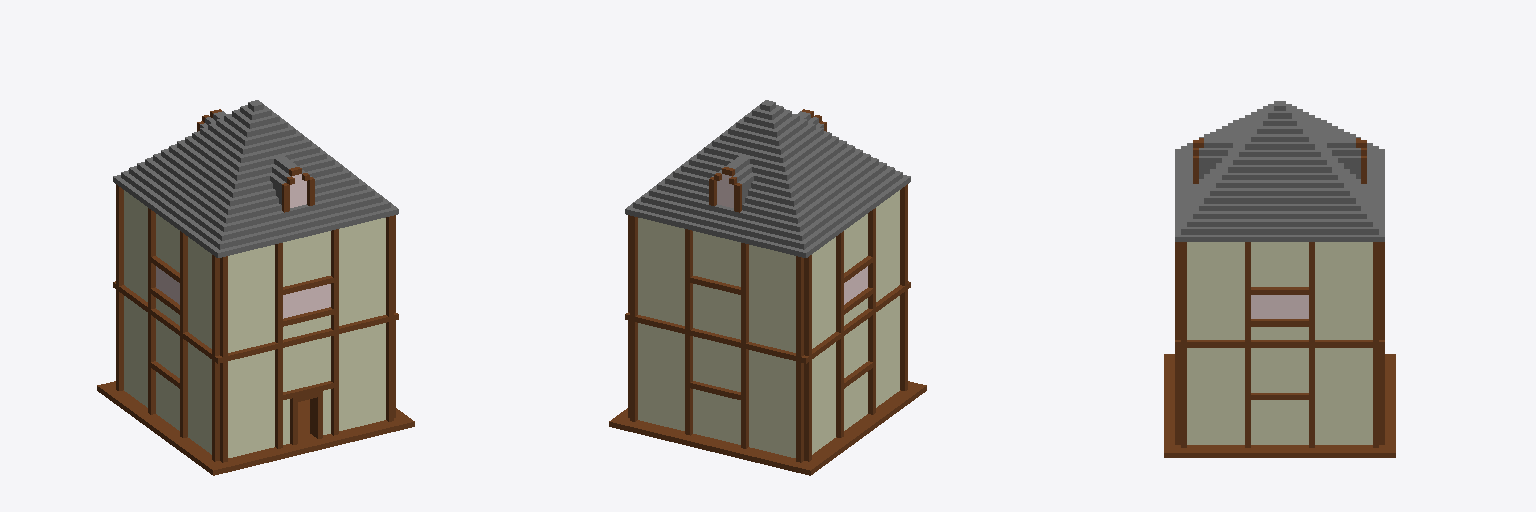
3 views of the same model, side by side, from view 1: azimuth 30°, elevation 25°; view 2: azimuth 150°, elevation 25°; view 3: azimuth 270°, elevation 25° (orthographic).
Visible parts, largest first — view 1: object 1; view 2: object 1; view 3: object 1.
Part boxes in pixels (x1,y1,x2,y2): object 1: (97, 100, 414, 475); object 1: (609, 100, 926, 475); object 1: (1164, 101, 1395, 457).
Size of the model in its own units: 4 by 5.8 by 4.
Materials: 1 (1 with a texture image).